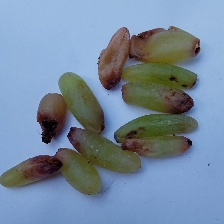grapes: (18, 28, 177, 170)
